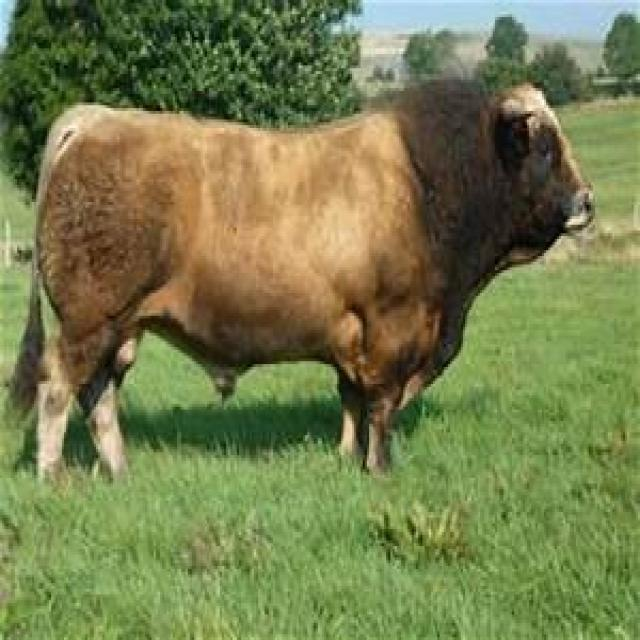cow: (18, 42, 603, 478)
